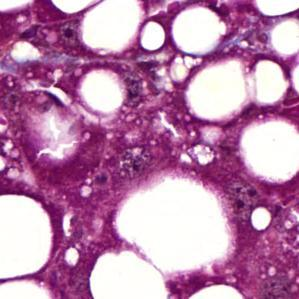steatosis: (169, 6, 227, 56)
